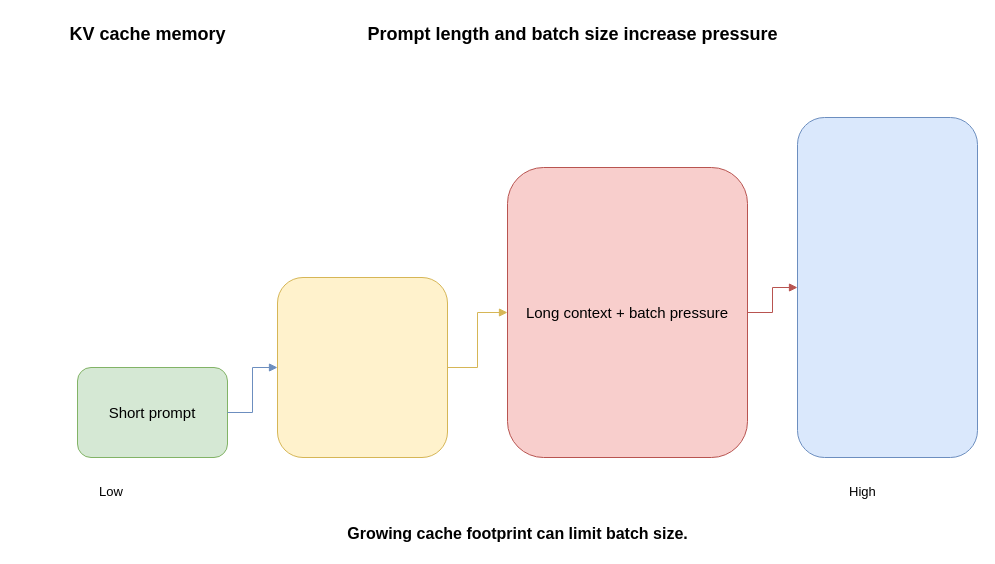
This 995x564 diagram has some shape labels left out. The centre of each missing label's shape, as x and y in pixels:
Longer prompt: pixel 362 367
Memory headroom: pixel 887 287
